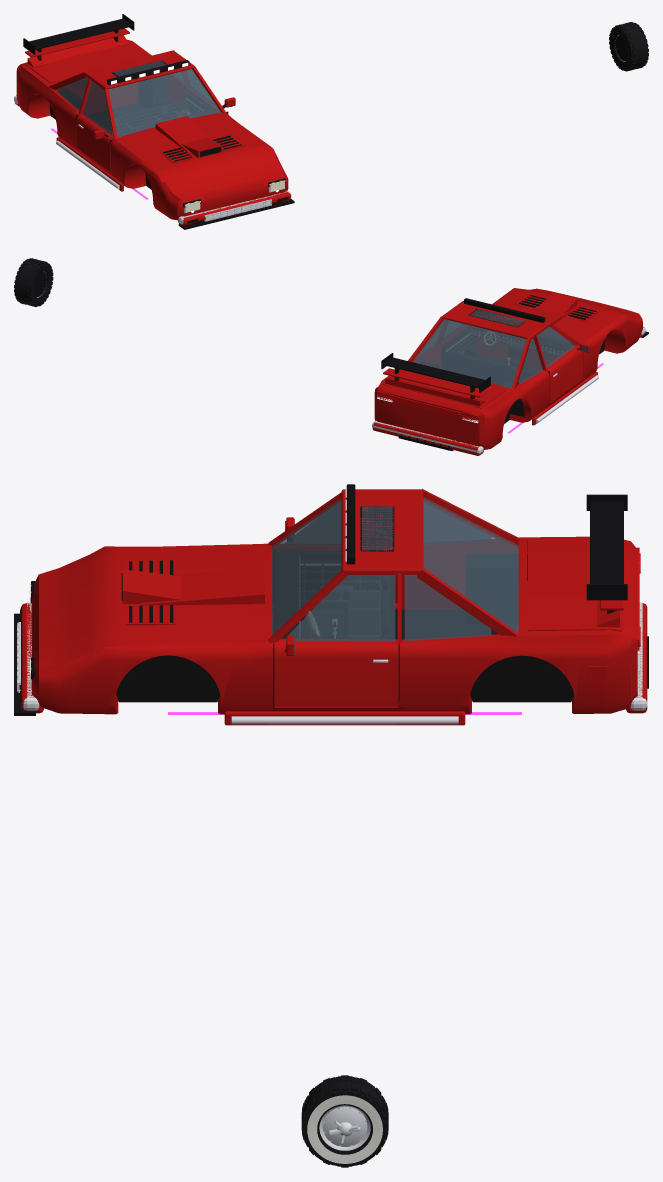
The model's file is KazeRS8.glb.
3 views of the same model, one above another, from view 1: azimuth 30°, elevation 25°; view 2: azimuth 150°, elevation 25°; view 3: azimuth 270°, elevation 25° (orthographic). The views are drawn at different scales.
Visible parts, largest first — view 1: KazeRS8_PanelHood, KazeRS8_Body, KazeRS8_Glass, KazeRS8_PanelSideR, KazeRS8_Lid, KazeRS8_PanelRoof, KazeRS8_OptSpoilerGTDark, KazeRS8_PanelDoorR, KazeRS8_Carpet, KazeRS8Wheel_TireOffroadRubber, KazeRS8_RoofBody, KazeRS8_OptHoodCowlBody (+15 smaller); view 2: KazeRS8_Body, KazeRS8_RoofGlass, KazeRS8_PanelSideR, KazeRS8_PanelHood, KazeRS8_PanelRoof, KazeRS8_PanelDoorR, KazeRS8_OptSpoilerGTDark, KazeRS8Wheel_TireOffroadRubber, KazeRS8_OptSeatsDiamondSeat, KazeRS8_RoofBody, KazeRS8_RoofGlass__WinDoorR, KazeRS8_Lid (+19 smaller); view 3: KazeRS8_PanelSideL, KazeRS8_PanelHood, KazeRS8_RoofGlass, KazeRS8_Body, KazeRS8_PanelDoorL, KazeRS8_Under, KazeRS8_Carpet, KazeRS8_Lid, KazeRS8_Glass, KazeRS8_RoofGlass__WinDoorL, KazeRS8_PanelRoof, KazeRS8_RoofBody (+16 smaller).
Part boxes in pixels (left/top/right/bottom): KazeRS8_PanelHood: left=115, top=112, right=285, bottom=202; KazeRS8_Body: left=21, top=39, right=288, bottom=220; KazeRS8_Glass: left=108, top=69, right=221, bottom=137; KazeRS8_PanelSideR: left=16, top=64, right=178, bottom=219; KazeRS8_Lid: left=25, top=42, right=147, bottom=83; KazeRS8_PanelRoof: left=84, top=50, right=195, bottom=89; KazeRS8_OptSpoilerGTDark: left=23, top=14, right=134, bottom=60; KazeRS8_PanelDoorR: left=76, top=113, right=113, bottom=171; KazeRS8_Carpet: left=58, top=76, right=168, bottom=120; KazeRS8Wheel_TireOffroadRubber: left=609, top=22, right=648, bottom=71; KazeRS8_RoofBody: left=48, top=50, right=225, bottom=139; KazeRS8_OptHoodCowlBody: left=155, top=116, right=211, bottom=154; KazeRS8_Body: left=375, top=288, right=625, bottom=447; KazeRS8_RoofGlass: left=412, top=319, right=542, bottom=388; KazeRS8_PanelSideR: left=478, top=315, right=642, bottom=449; KazeRS8_PanelHood: left=492, top=288, right=640, bottom=343; KazeRS8_PanelRoof: left=442, top=301, right=550, bottom=338; KazeRS8_PanelDoorR: left=547, top=344, right=583, bottom=402; KazeRS8_OptSpoilerGTDark: left=381, top=353, right=490, bottom=399; KazeRS8Wheel_TireOffroadRubber: left=14, top=258, right=53, bottom=306; KazeRS8_OptSeatsDiamondSeat: left=446, top=351, right=536, bottom=385; KazeRS8_RoofBody: left=408, top=316, right=580, bottom=389; KazeRS8_RoofGlass__WinDoorR: left=537, top=327, right=575, bottom=367; KazeRS8_Lid: left=383, top=370, right=506, bottom=408; KazeRS8_PanelSideL: left=39, top=634, right=637, bottom=714; KazeRS8_PanelHood: left=32, top=543, right=270, bottom=674; KazeRS8_RoofGlass: left=404, top=497, right=518, bottom=641; KazeRS8_Body: left=32, top=536, right=637, bottom=713; KazeRS8_PanelDoorL: left=274, top=638, right=398, bottom=706; KazeRS8_Under: left=116, top=555, right=573, bottom=702; KazeRS8_Carpet: left=310, top=553, right=517, bottom=700; KazeRS8_Lid: left=528, top=539, right=621, bottom=631; KazeRS8_Glass: left=272, top=498, right=341, bottom=635; KazeRS8_RoofGlass__WinDoorL: left=283, top=575, right=395, bottom=641; KazeRS8_PanelRoof: left=341, top=489, right=423, bottom=572; KazeRS8_RoofBody: left=267, top=489, right=518, bottom=643.
Size of the model in its own units: 35.15 by 6.78 by 18.66.
